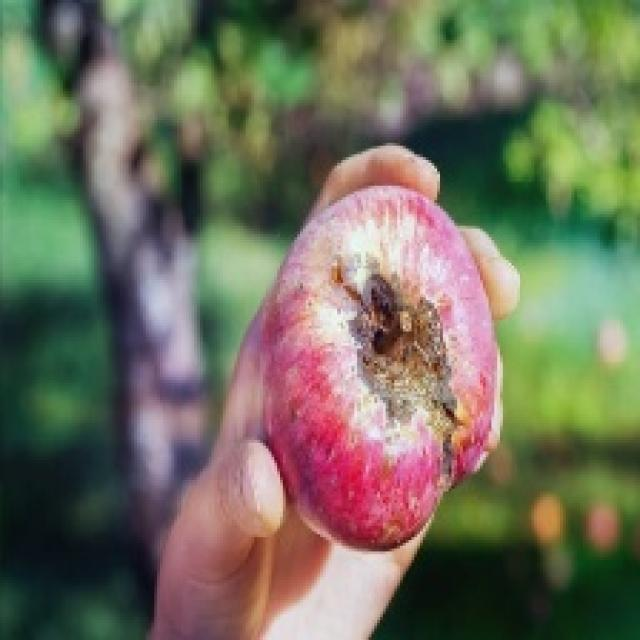rotten_apple: (265, 191, 494, 549)
